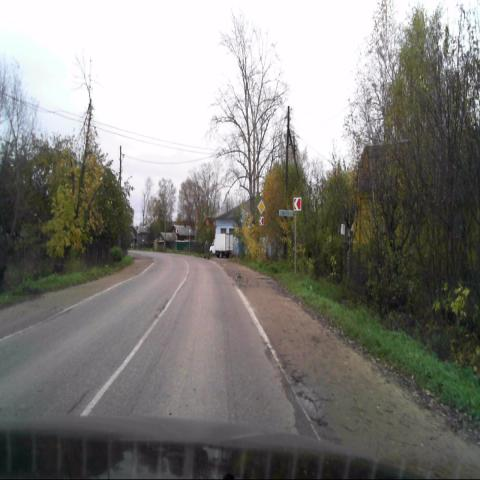2_1: (257, 200, 265, 214)
